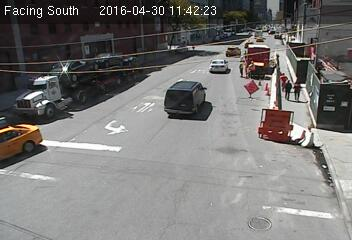neg: (62, 66, 104, 122), (309, 183, 348, 235), (1, 137, 33, 180), (263, 125, 291, 161), (10, 213, 23, 231)
